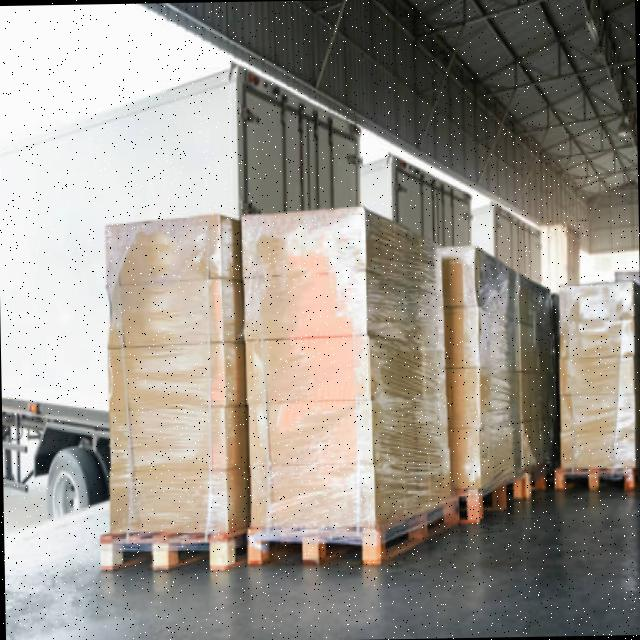Wooden-Pallets: (244, 491, 467, 575), (96, 522, 234, 589), (457, 467, 531, 526), (555, 463, 640, 508)
